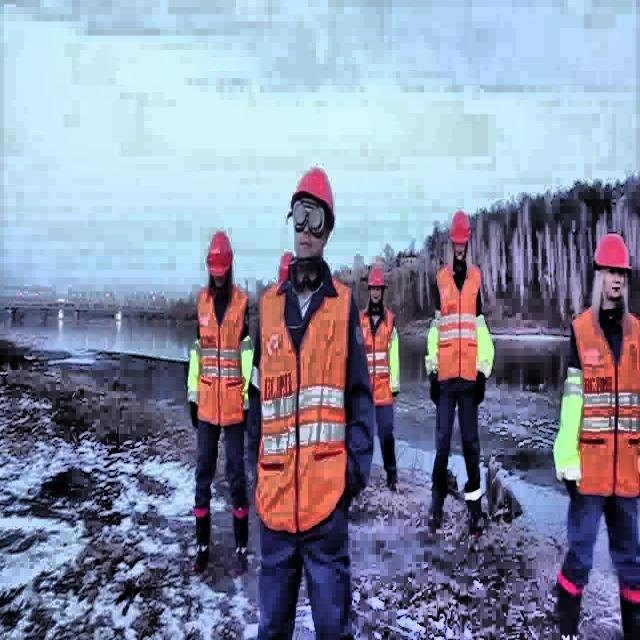safety_helmet: (288, 167, 337, 218), (593, 233, 631, 269), (205, 231, 232, 274), (448, 209, 471, 246), (368, 263, 386, 290), (280, 250, 294, 276)
safety_jacket: (255, 274, 347, 530), (571, 304, 639, 498), (196, 282, 247, 427), (435, 260, 481, 386), (358, 307, 396, 407)
